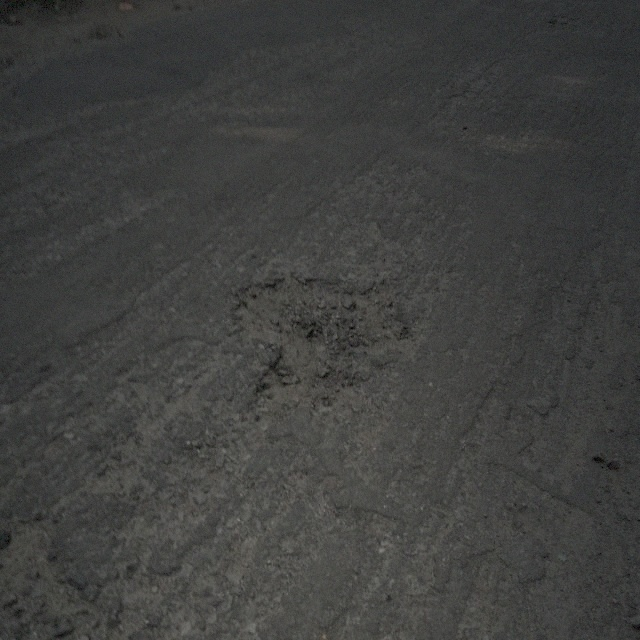pothole: (228, 266, 410, 418)
